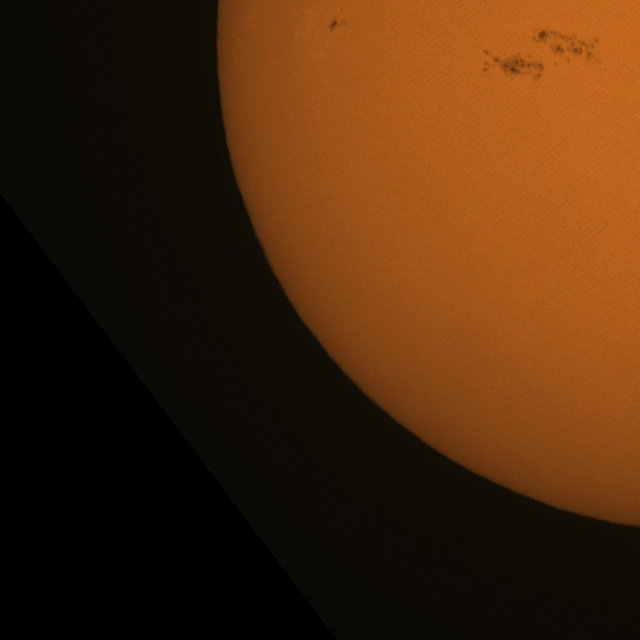sunspot: (521, 24, 596, 74), (493, 49, 548, 83), (328, 5, 348, 32)
